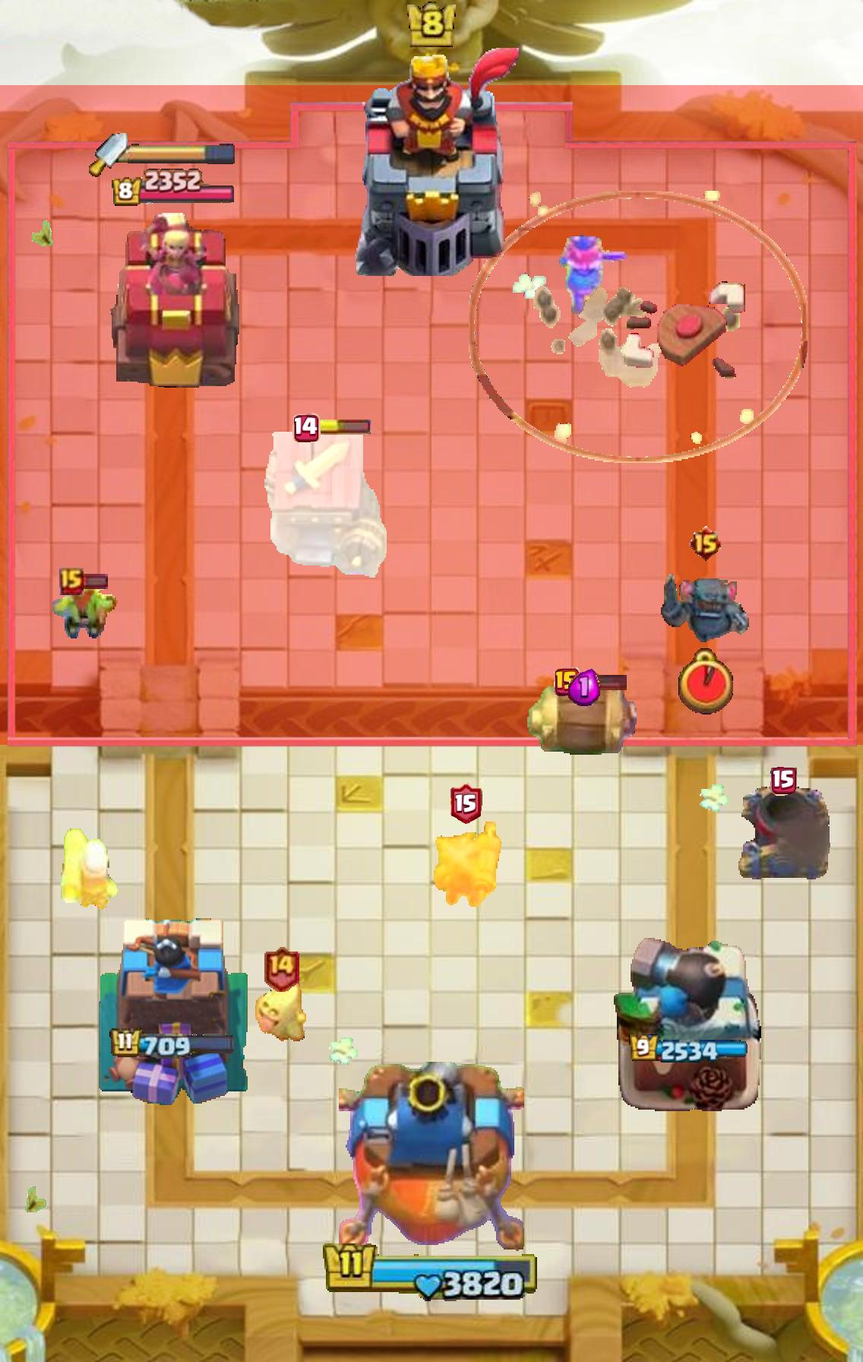bar: (577, 673, 627, 691), (317, 420, 371, 435), (80, 573, 109, 590)
bar-level: (262, 945, 300, 992), (450, 783, 482, 824), (688, 525, 723, 562), (293, 412, 321, 442), (554, 667, 580, 696), (771, 767, 797, 796), (59, 568, 84, 595)
